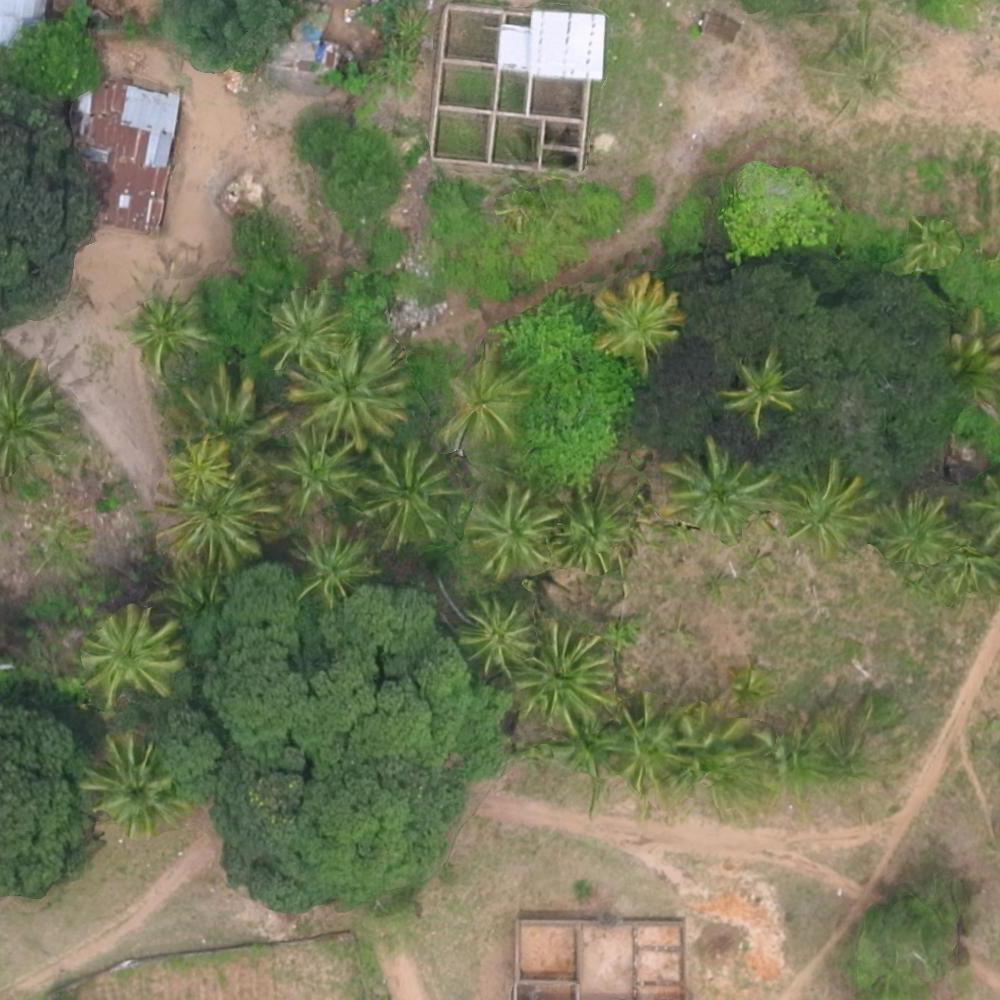Palm: (291, 339, 402, 444), (169, 367, 281, 463), (519, 625, 621, 726), (163, 473, 276, 564), (80, 733, 184, 831), (358, 440, 457, 542), (663, 446, 774, 535), (80, 609, 178, 697), (467, 484, 554, 579), (788, 461, 875, 555), (593, 274, 682, 362), (445, 351, 525, 445), (123, 288, 208, 371), (560, 483, 632, 576), (262, 290, 344, 368), (290, 524, 374, 599), (872, 497, 953, 574), (455, 599, 538, 672), (724, 350, 805, 423), (277, 438, 357, 510), (164, 434, 236, 497)
